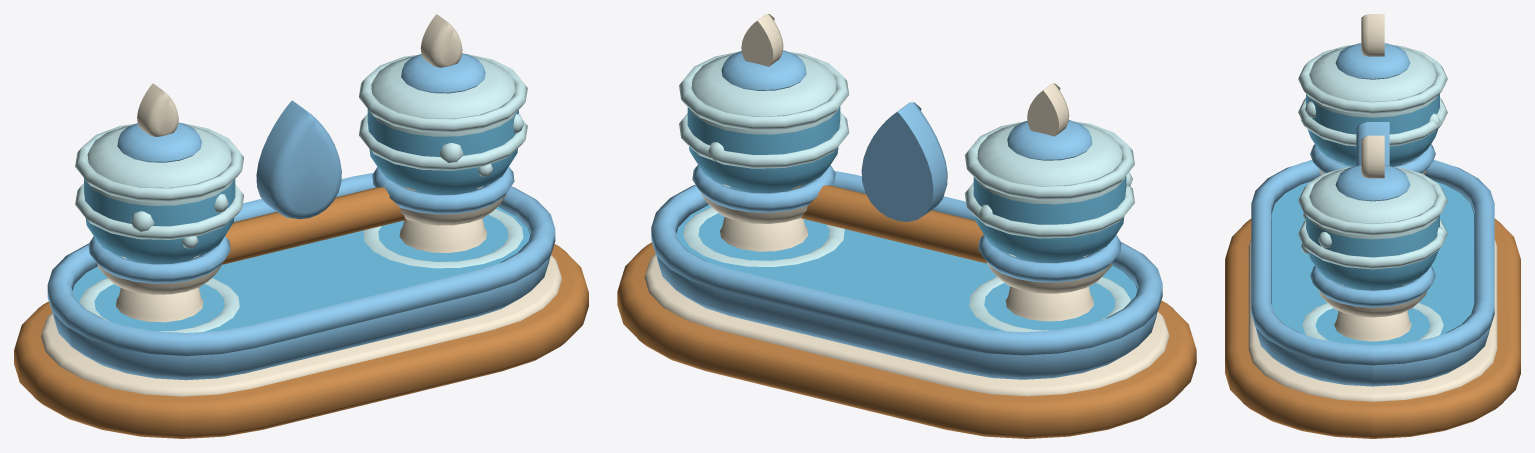
The model's file is ShopWaterDouble.fbx.
3 views of the same model, side by side, from view 1: azimuth 30°, elevation 25°; view 2: azimuth 150°, elevation 25°; view 3: azimuth 270°, elevation 25° (orthographic). The views are drawn at different scales.
Parts seen in each view (by area): view 1: ShopWaterDouble; view 2: ShopWaterDouble; view 3: ShopWaterDouble.
Part boxes in pixels (<box>): ShopWaterDouble: <box>14,14,588,438</box>; ShopWaterDouble: <box>617,14,1196,438</box>; ShopWaterDouble: <box>1225,14,1520,438</box>.
Bounding box in the file's own units: 1.38 × 0.7184 × 0.76.
